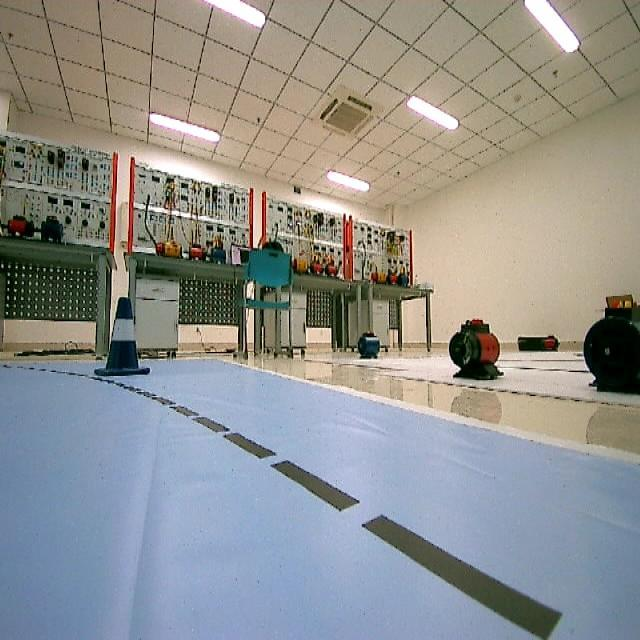obstacle: (90, 293, 162, 382)
